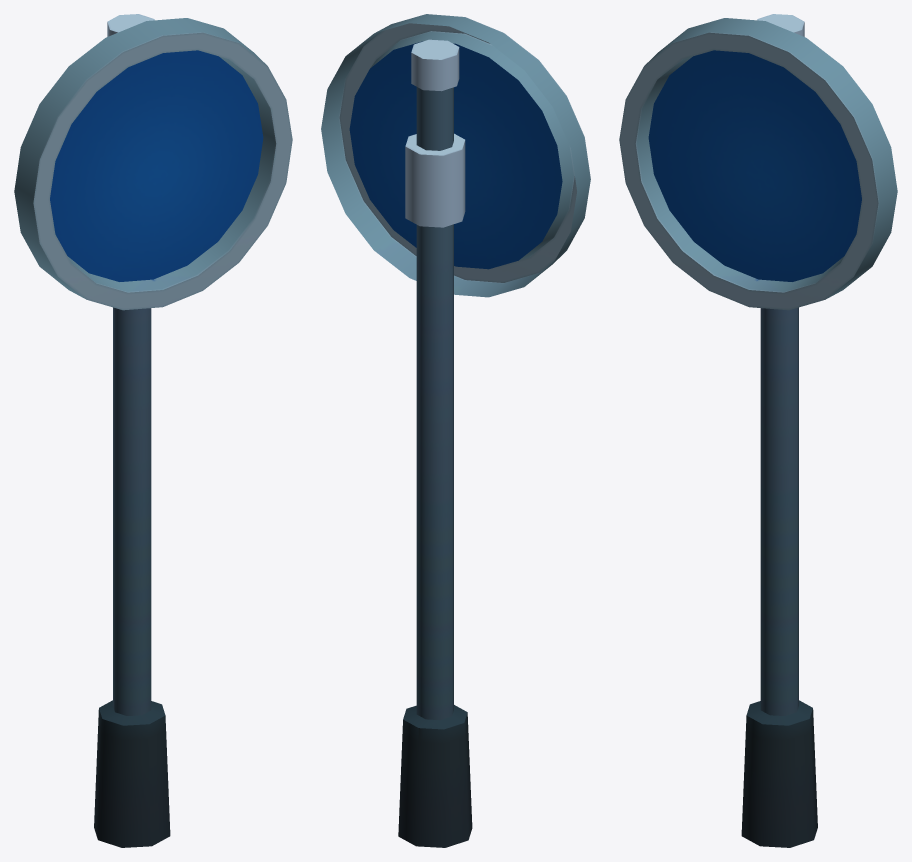
The model's file is MESH_Poteau_03.fbx.
3 views of the same model, side by side, from view 1: azimuth 30°, elevation 25°; view 2: azimuth 150°, elevation 25°; view 3: azimuth 330°, elevation 25° (orthographic). The views are drawn at different scales.
Visible parts, largest first — view 1: MESH_Poteau_03; view 2: MESH_Poteau_03; view 3: MESH_Poteau_03.
Part boxes in pixels (x1,y1,x2,y2): MESH_Poteau_03: (14, 14, 292, 847); MESH_Poteau_03: (321, 14, 590, 847); MESH_Poteau_03: (619, 14, 897, 847).
Bounding box in the file's own units: 0.7754 × 2.3 × 0.2574.
